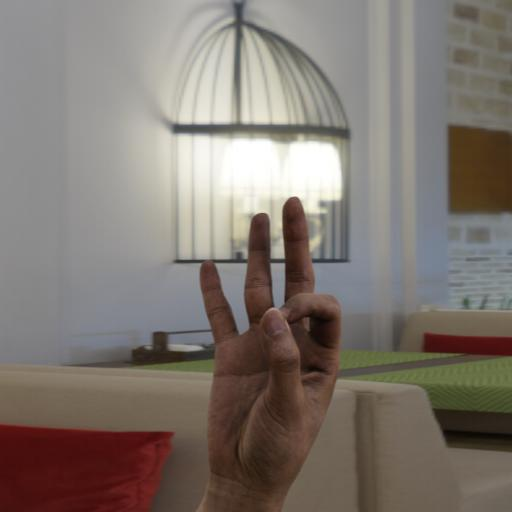F: (174, 182, 355, 474)
